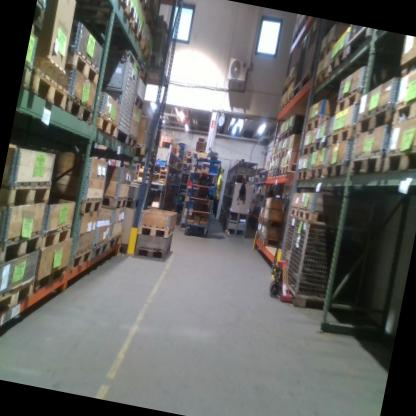pallet: (68, 0, 139, 35), (0, 169, 52, 215), (0, 270, 37, 330), (27, 63, 74, 109), (0, 221, 43, 271), (354, 95, 396, 141), (31, 255, 69, 304), (37, 218, 75, 262), (65, 45, 104, 82), (333, 82, 368, 123), (383, 133, 416, 176), (63, 91, 96, 125), (391, 81, 416, 125), (76, 188, 104, 227), (350, 145, 384, 177), (115, 18, 146, 53), (65, 241, 94, 274), (135, 217, 175, 240), (133, 237, 171, 261), (317, 35, 341, 72), (397, 37, 416, 83), (299, 209, 340, 229), (100, 189, 128, 216), (329, 118, 355, 147), (89, 113, 118, 139), (19, 53, 38, 92), (135, 34, 156, 68), (313, 129, 334, 160), (325, 45, 346, 76), (31, 0, 51, 32), (323, 156, 349, 179), (305, 111, 330, 134), (88, 236, 109, 263), (309, 65, 328, 94), (141, 8, 159, 36), (258, 233, 285, 249), (280, 144, 300, 164), (283, 124, 302, 145), (105, 231, 123, 253), (260, 217, 284, 231), (299, 142, 315, 162), (281, 159, 298, 177), (309, 161, 325, 180), (125, 132, 140, 151), (286, 203, 302, 219), (134, 0, 150, 15), (294, 166, 308, 182), (274, 130, 286, 144), (271, 166, 279, 180), (265, 168, 272, 182), (270, 151, 277, 164), (275, 150, 282, 161), (256, 213, 263, 223), (277, 166, 282, 178)
pallet_truck: (265, 191, 314, 305)
stillage: (278, 213, 376, 319), (88, 42, 148, 148), (298, 18, 328, 93), (275, 210, 298, 280), (289, 28, 311, 100), (343, 24, 376, 63)
